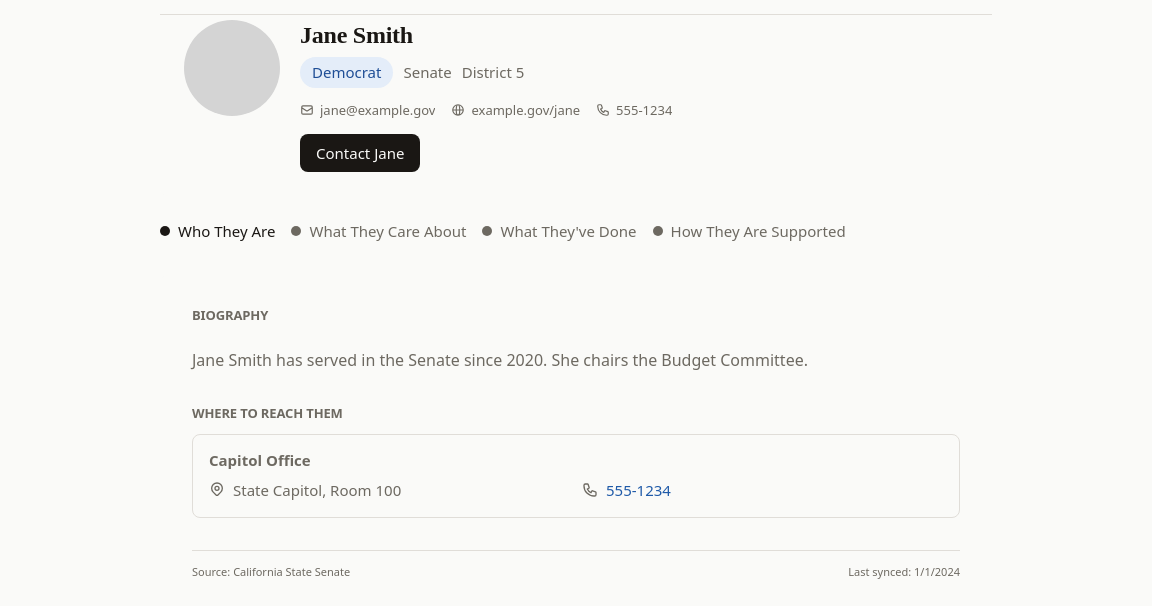
Test case: RepresentativeDetailPage › layer navigation › Back to Summary returns to Who They Are from layer 4
What coordinates should you click on to do the following:
click the button "How They Are Supported"
I would click on:
 (749, 231)
Its box is [653,220,846,243].
(page scrolled)
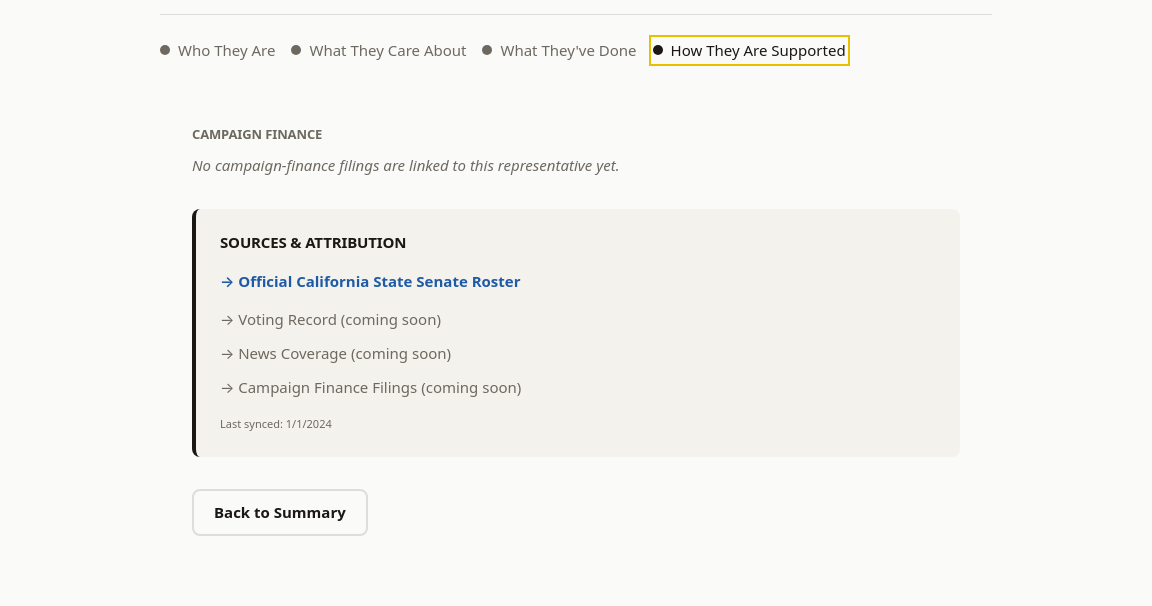
What coordinates should you click on to do the following:
click the button "Back to Summary"
I would click on:
 (280, 513)
Its box is [192,490,368,536].
(page scrolled)
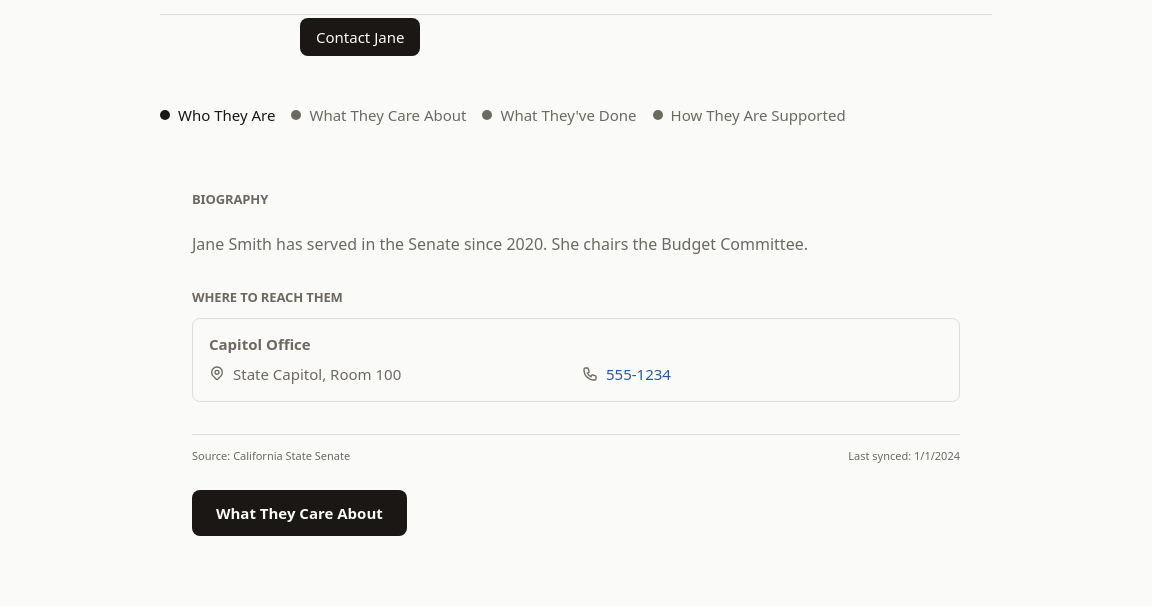
Expected: the heading "Biography" is shown, [192,191,268,208]
